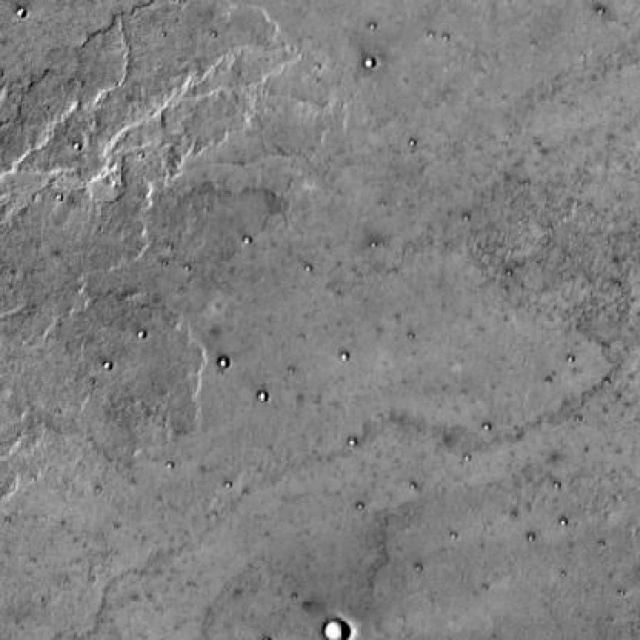crater: (302, 615, 327, 637)
